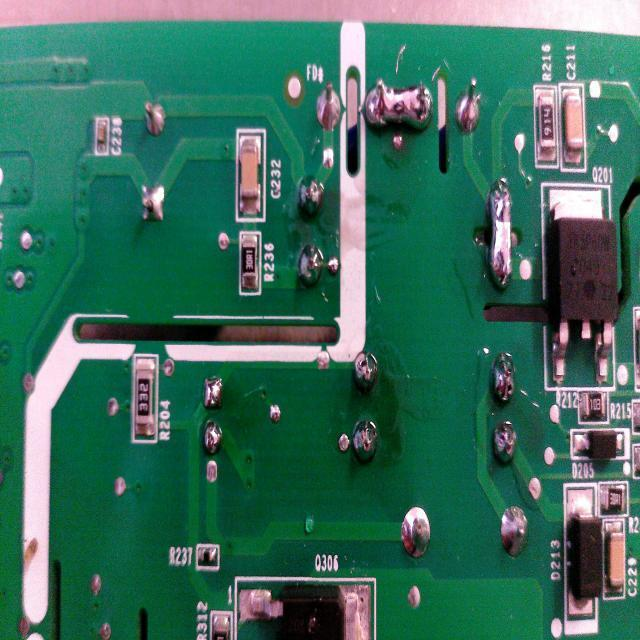Soldering shorted: (360, 75, 436, 136), (487, 176, 515, 294)
